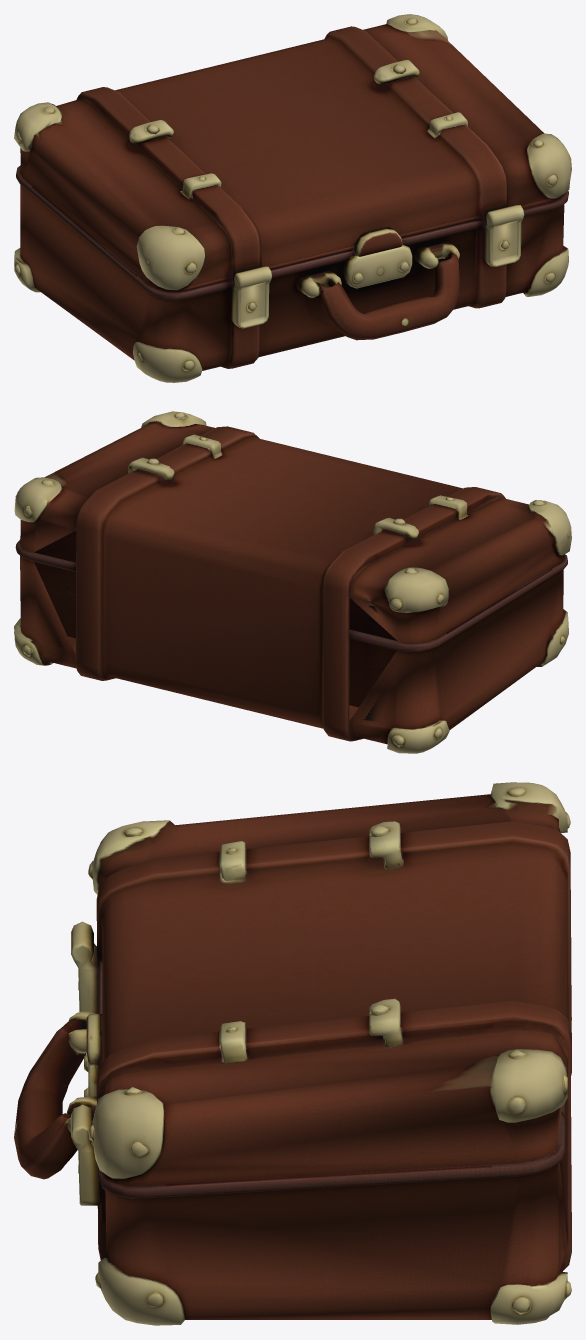
The model's file is prop_suitcase.glb.
The picture shows the model from 3 angles, top to bottom: view 1: azimuth 30°, elevation 25°; view 2: azimuth 150°, elevation 25°; view 3: azimuth 270°, elevation 25°; orthographic projection. The views are drawn at different scales.
Parts seen in each view (by area): view 1: tripo_node_5729cf3c-b256-4722-9ad9-58ae2d49ada3; view 2: tripo_node_5729cf3c-b256-4722-9ad9-58ae2d49ada3; view 3: tripo_node_5729cf3c-b256-4722-9ad9-58ae2d49ada3.
Boxes of the visible parts, bbox=[...] form: tripo_node_5729cf3c-b256-4722-9ad9-58ae2d49ada3: bbox=[14, 14, 571, 382]; tripo_node_5729cf3c-b256-4722-9ad9-58ae2d49ada3: bbox=[14, 411, 571, 753]; tripo_node_5729cf3c-b256-4722-9ad9-58ae2d49ada3: bbox=[14, 782, 571, 1325].
Bounding box in the file's own units: 0.998 × 0.4121 × 0.7637.
Materials: 1 (1 with a texture image).
